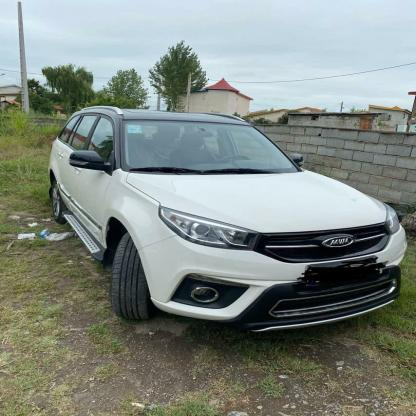Car: (36, 92, 410, 343)
